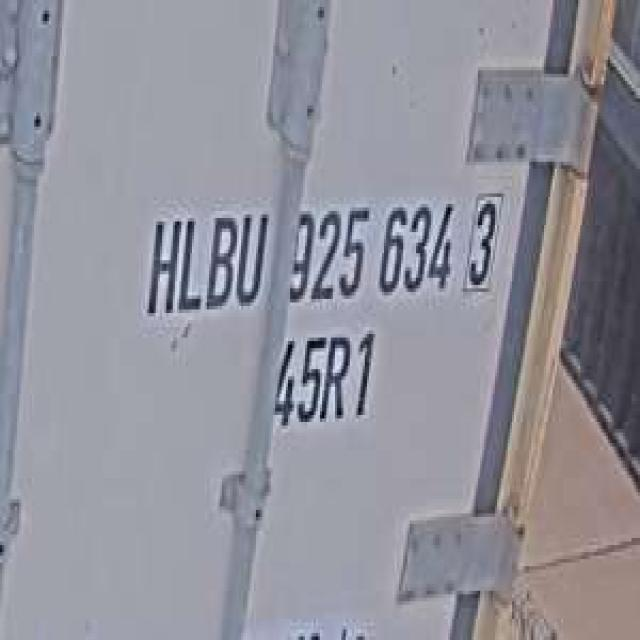dv: (460, 180, 506, 296)
owner: (139, 194, 271, 324)
serial: (286, 186, 456, 310)
size: (269, 320, 380, 436)
